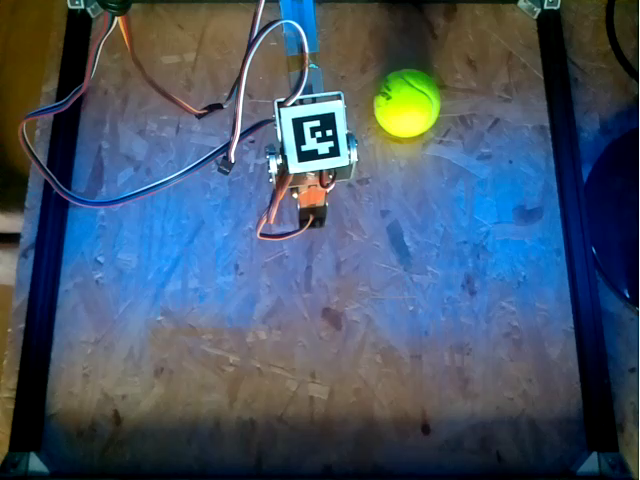tennis_ball: (371, 66, 443, 139)
